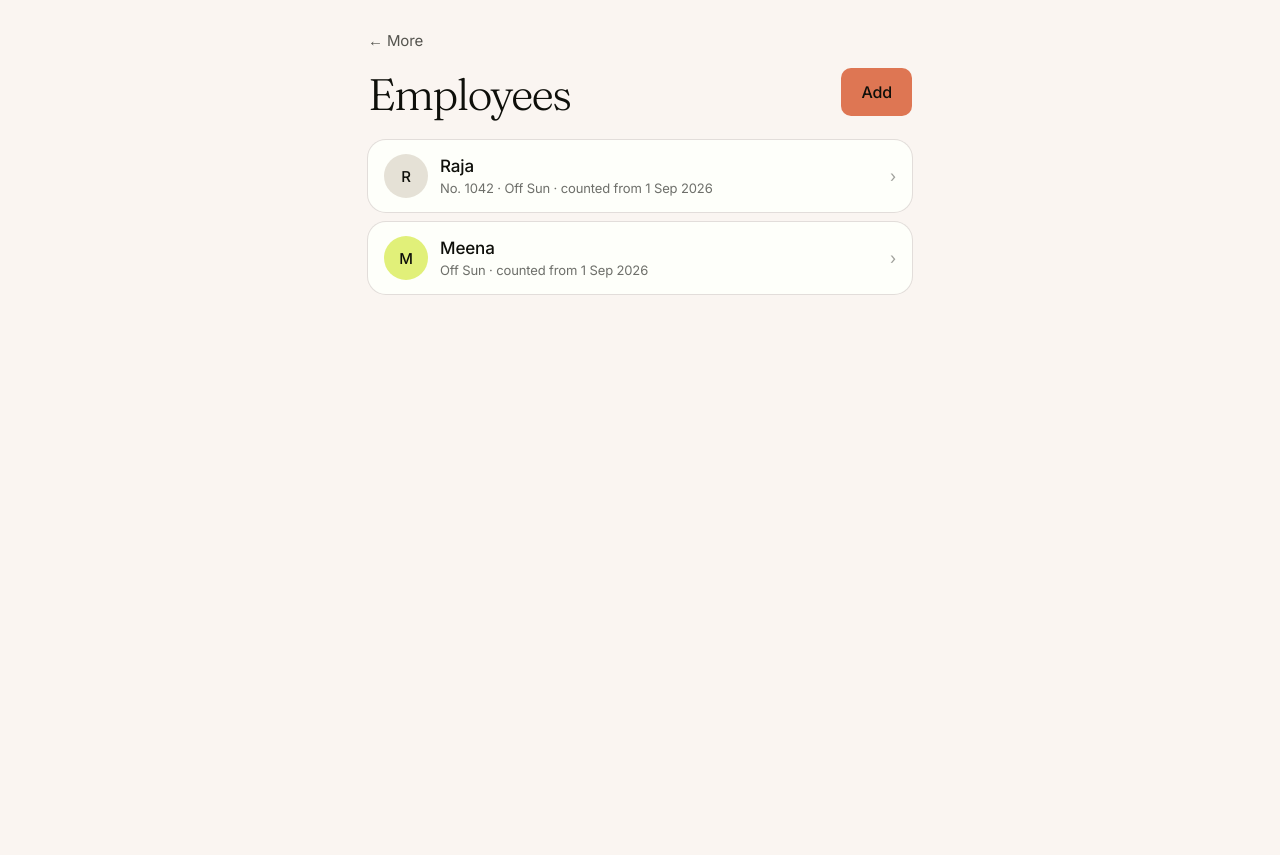
Scenario: Employee enrollment number › is shown in the list and in the edit sheet
expect the text "No. 1042 · Off Sun · counted from 1 Sep 2026" is shown: met, box 440,180 -> 713,196
expect the text "Off Sun · counted from 1 Sep 2026" is shown: met, box 440,262 -> 648,278
Click the text "Raja". click: {"x": 457, "y": 166}
box: 440,156 -> 474,176
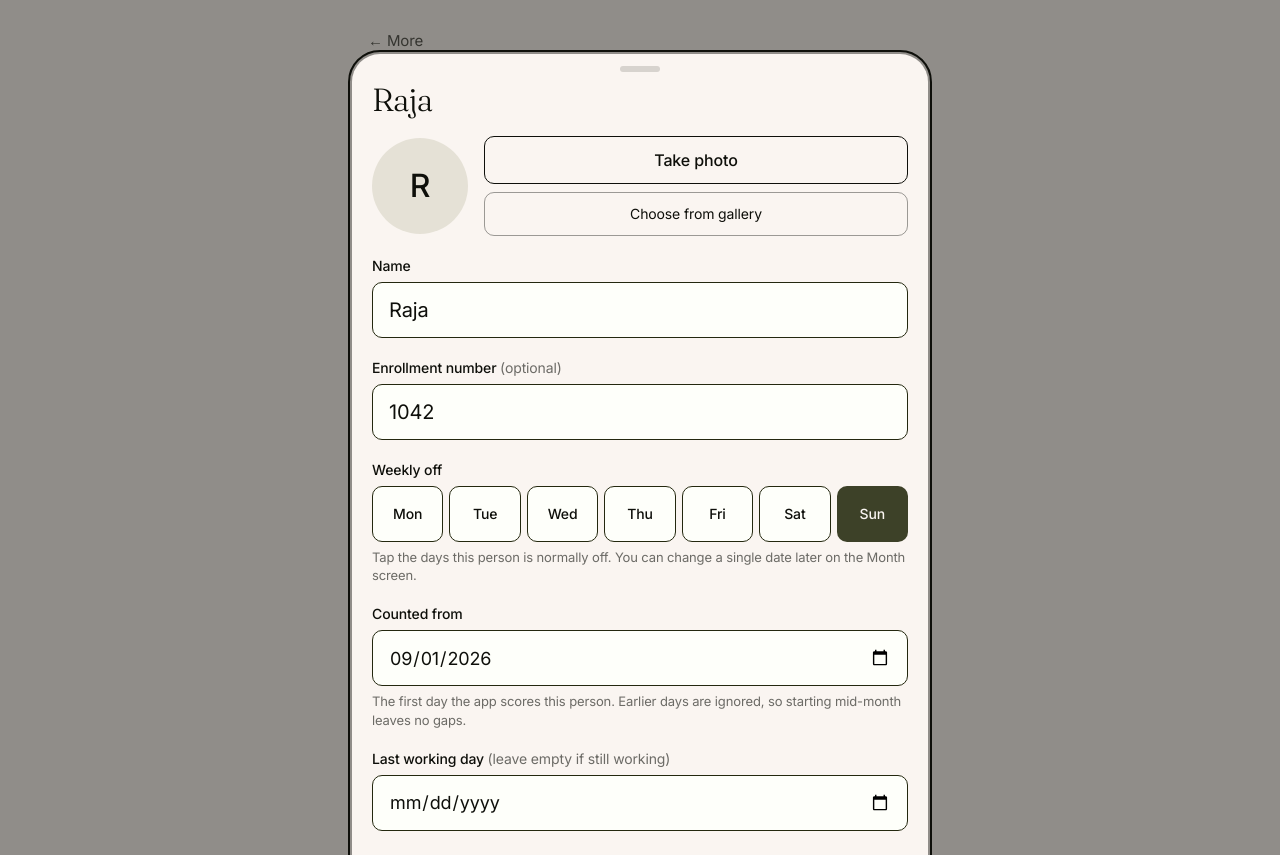
expect the field labelled "Enrollment number (optional)" holds "1042": met, box 372,384 -> 908,440
